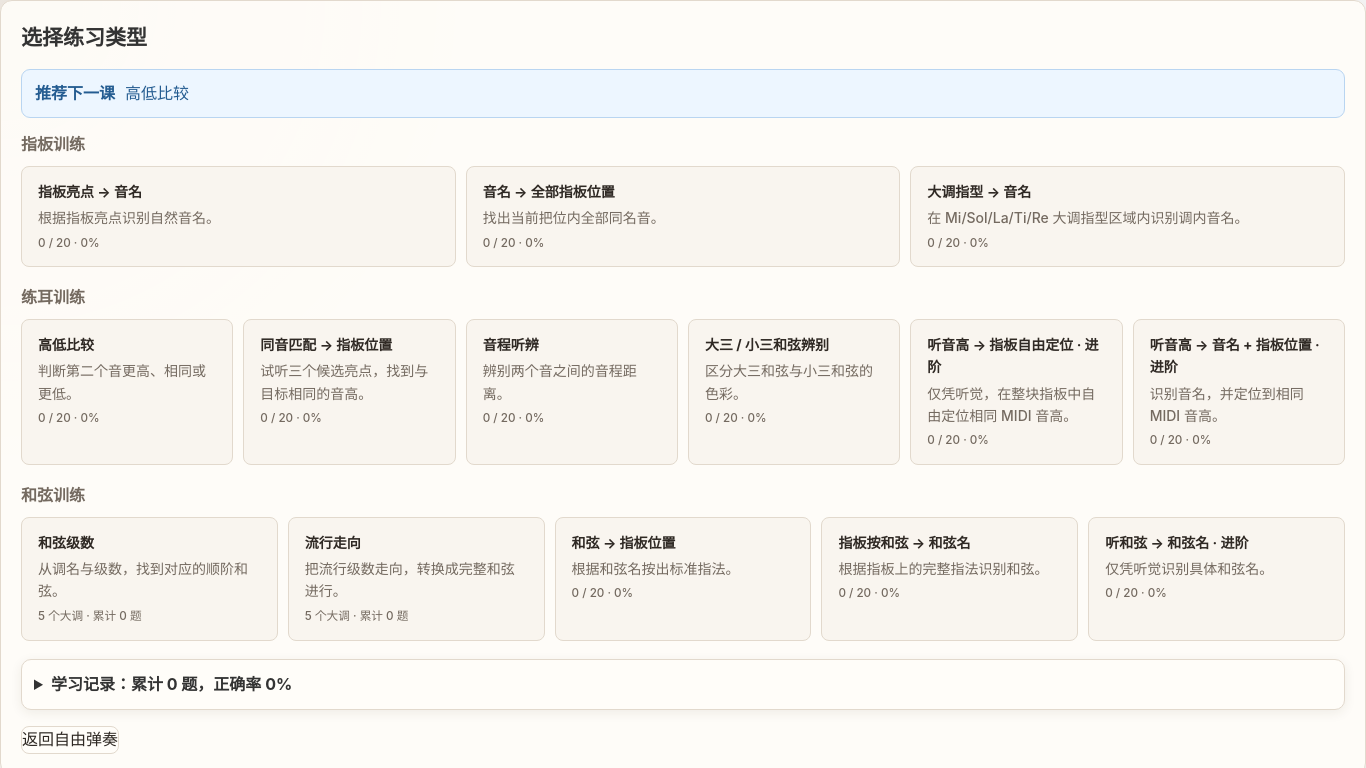
Test case: integrated harmony UI › moves the follow-up group to the selected root and supports keyboard selection
The width and height of the screenshot is (1366, 768).
Click the button "和弦级数 从调名与级数，找到对应的顺阶和弦。 5 个大调 · 累计 0 题".
click(149, 579)  # box x1=21 y1=517 x2=278 y2=640
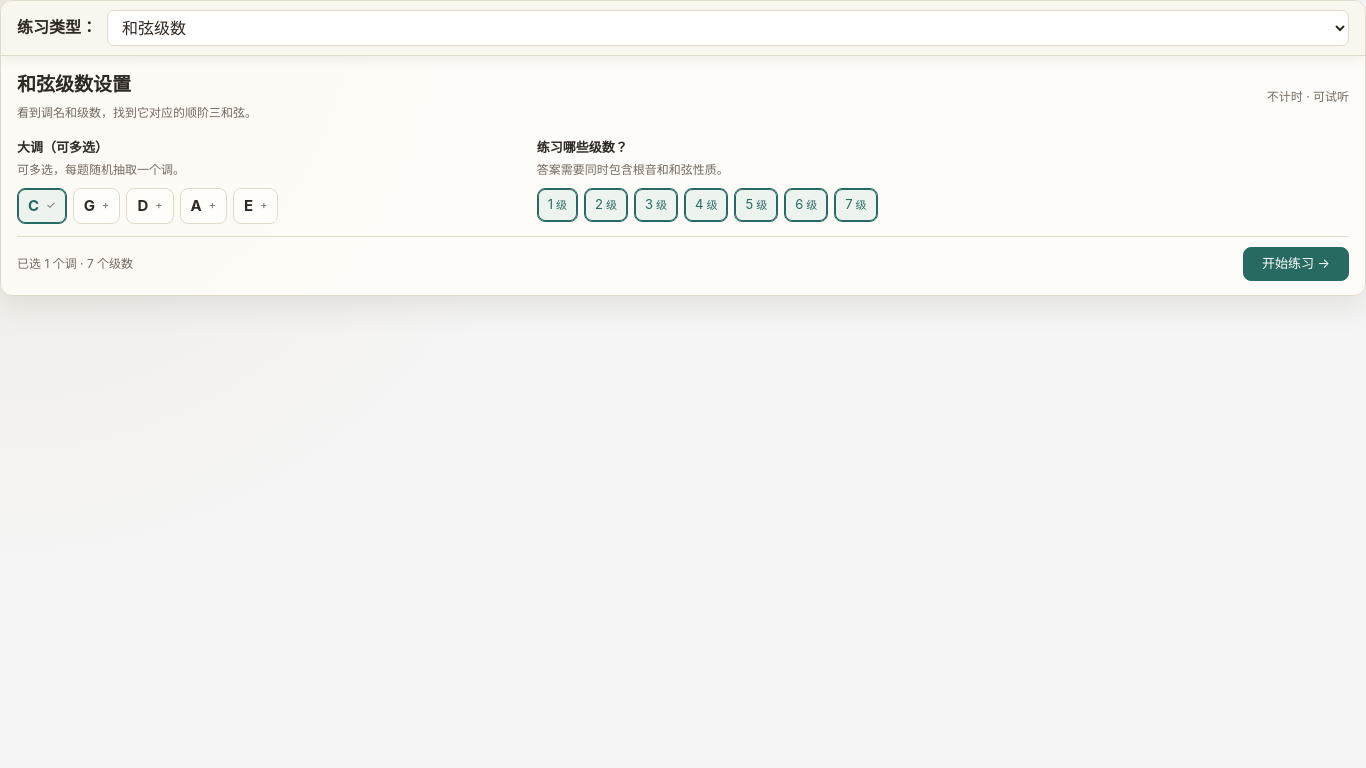
Click the button "开始练习 →".
click(1296, 264)  # box x1=1243 y1=247 x2=1349 y2=281
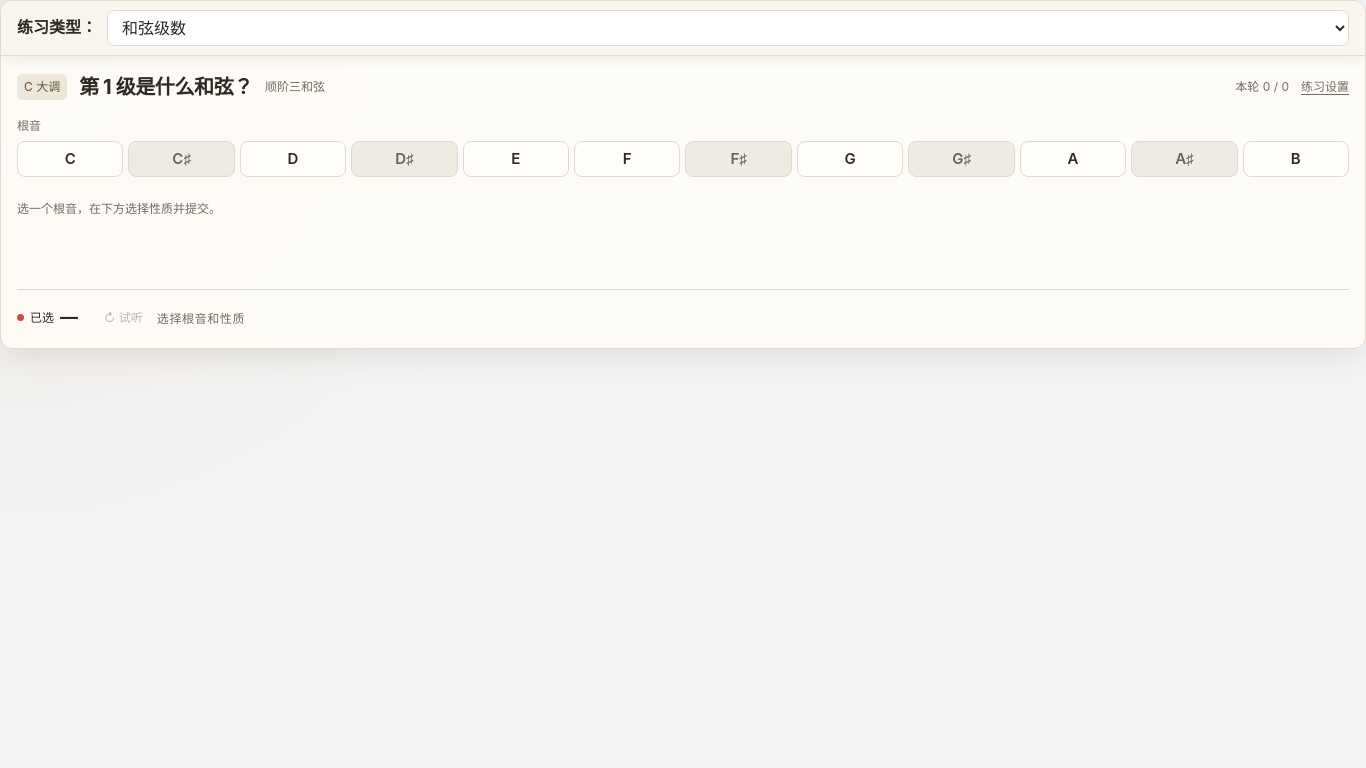
Click the button named "根音 B".
click(1296, 159)  # box x1=1243 y1=141 x2=1349 y2=177
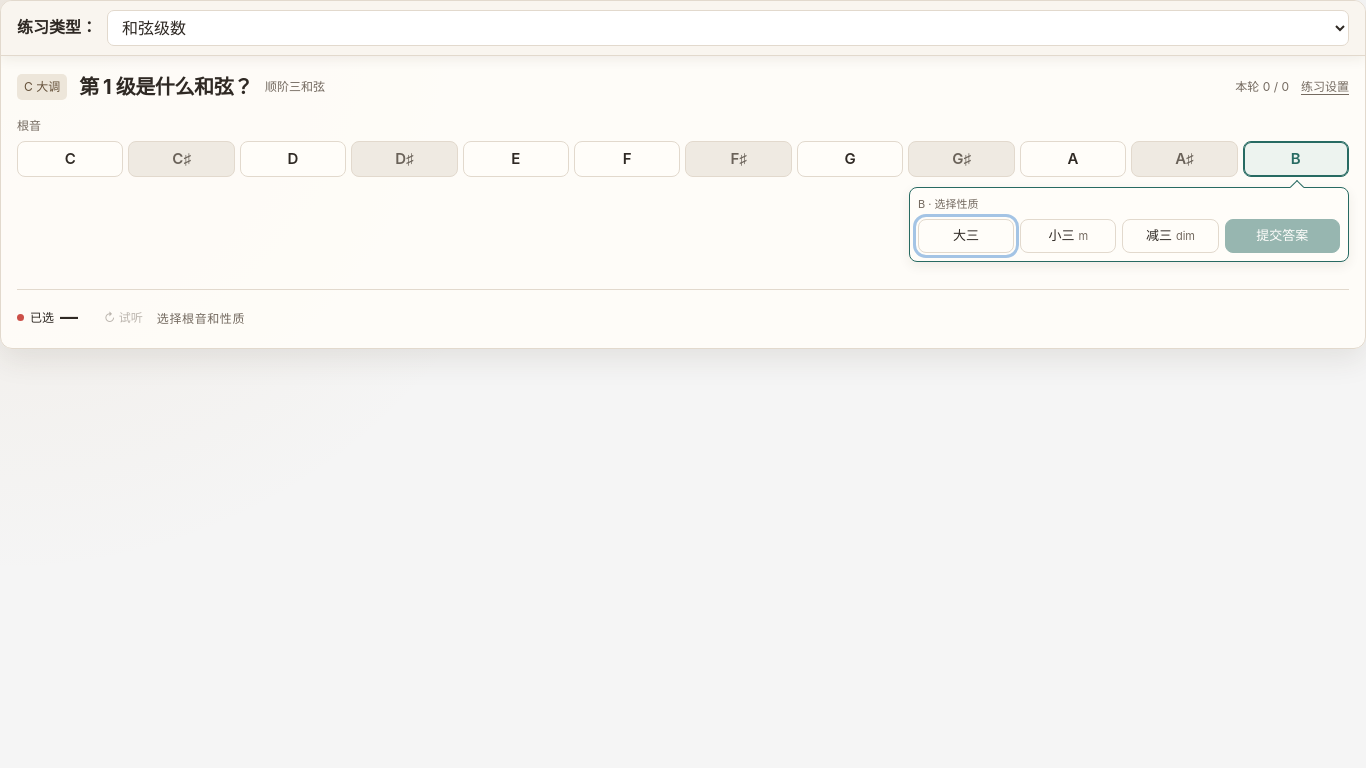
Expected: the element named "B 的性质与提交" is shown, x1=909 y1=187 x2=1349 y2=262
Click the button named "根音 C".
click(70, 159)  # box x1=17 y1=141 x2=123 y2=177
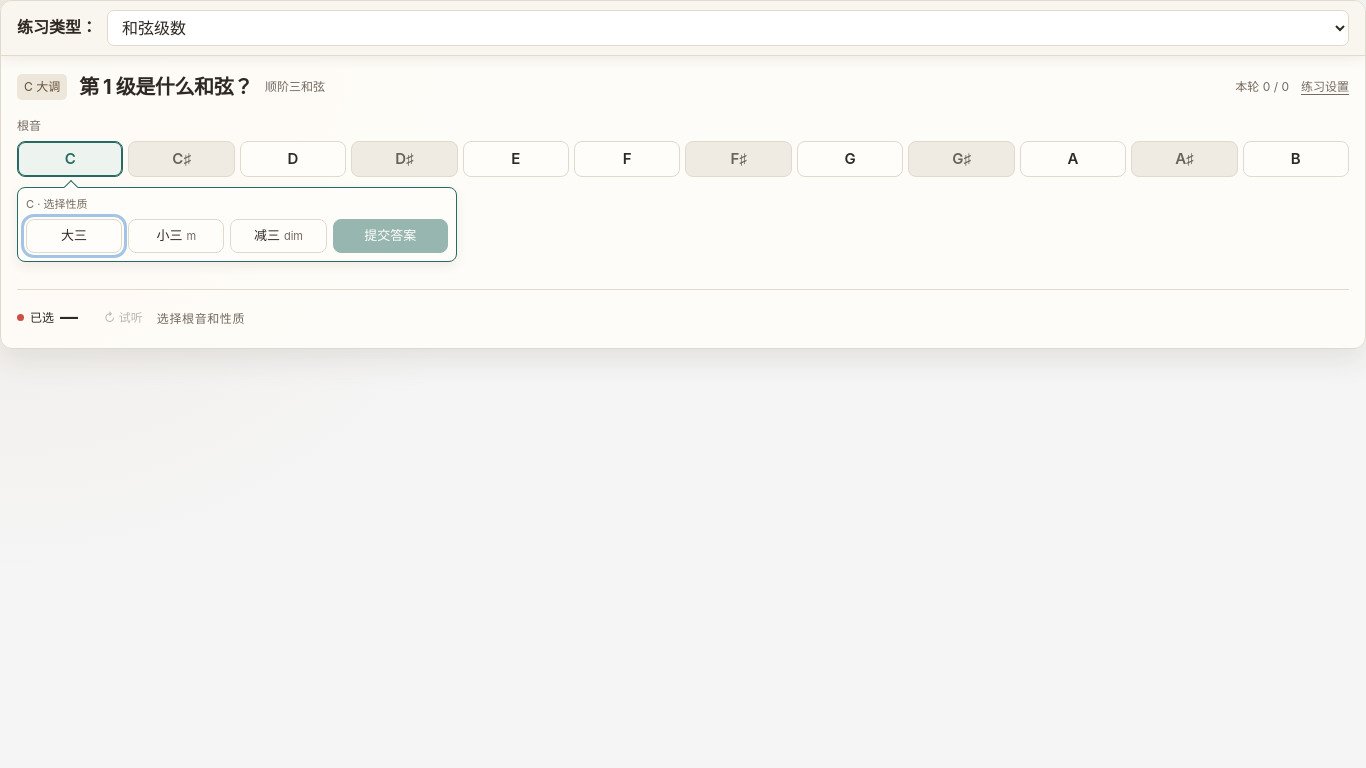
Expected: the element named "C 的性质与提交" is shown, x1=17 y1=187 x2=457 y2=262
